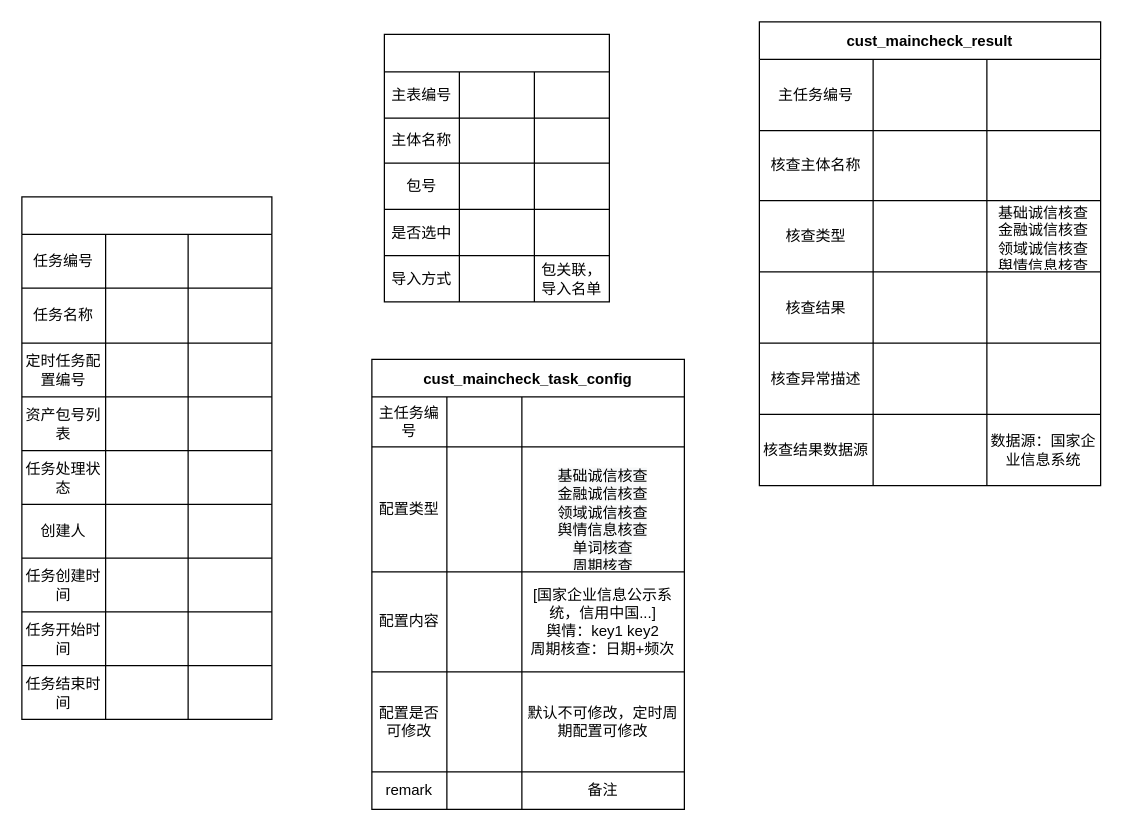
The diagram is 1123 pixels wide and 831 high, and some of its shapes have lost their labels. The box of each missing label's shape, as (x1, y1, x2, y2) in pixels:
cust_maincheck_task: (21, 196, 272, 719)
cust_maincheck_task_content: (383, 33, 609, 302)
